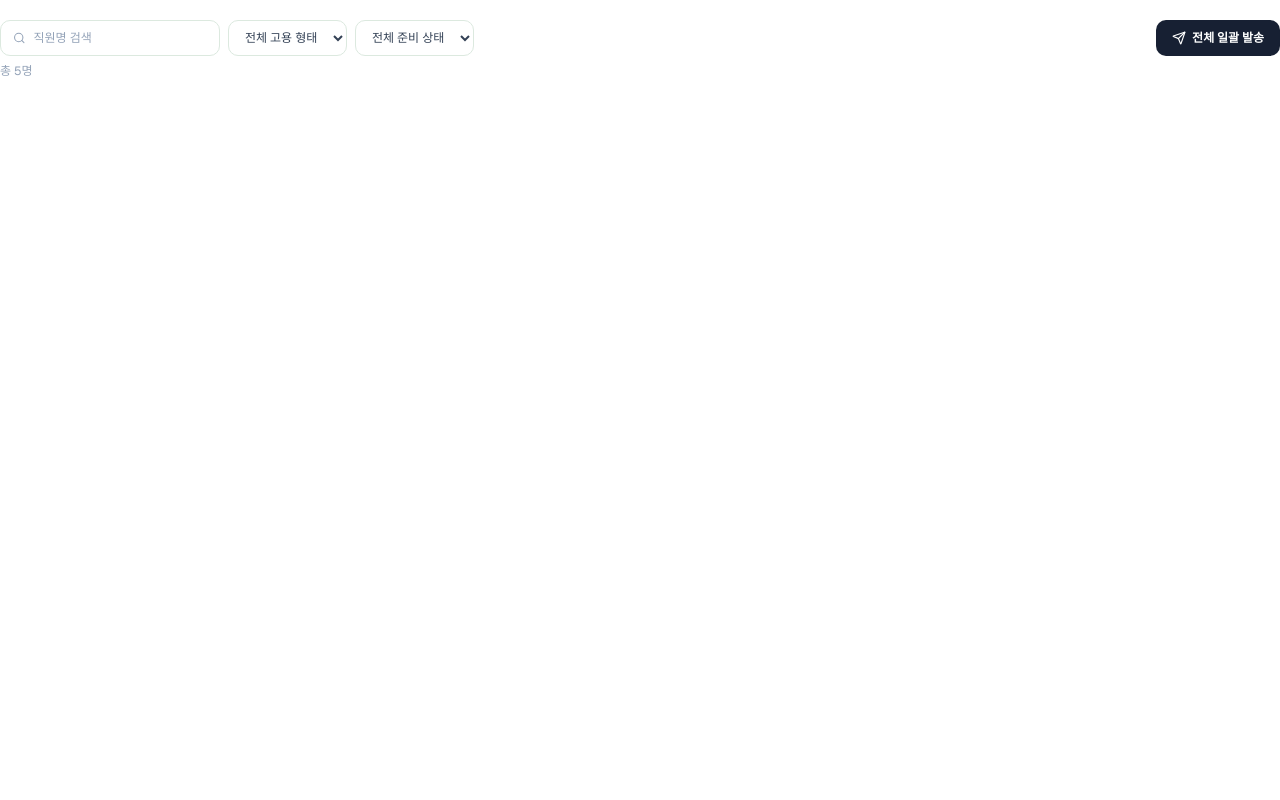
it: PayrollListFilter › 전체 일괄 발송 버튼을 클릭하면 확인 모달을 연다
Click the button "전체 일괄 발송". click: (1218, 38)
box: x1=1156 y1=20 x2=1279 y2=56
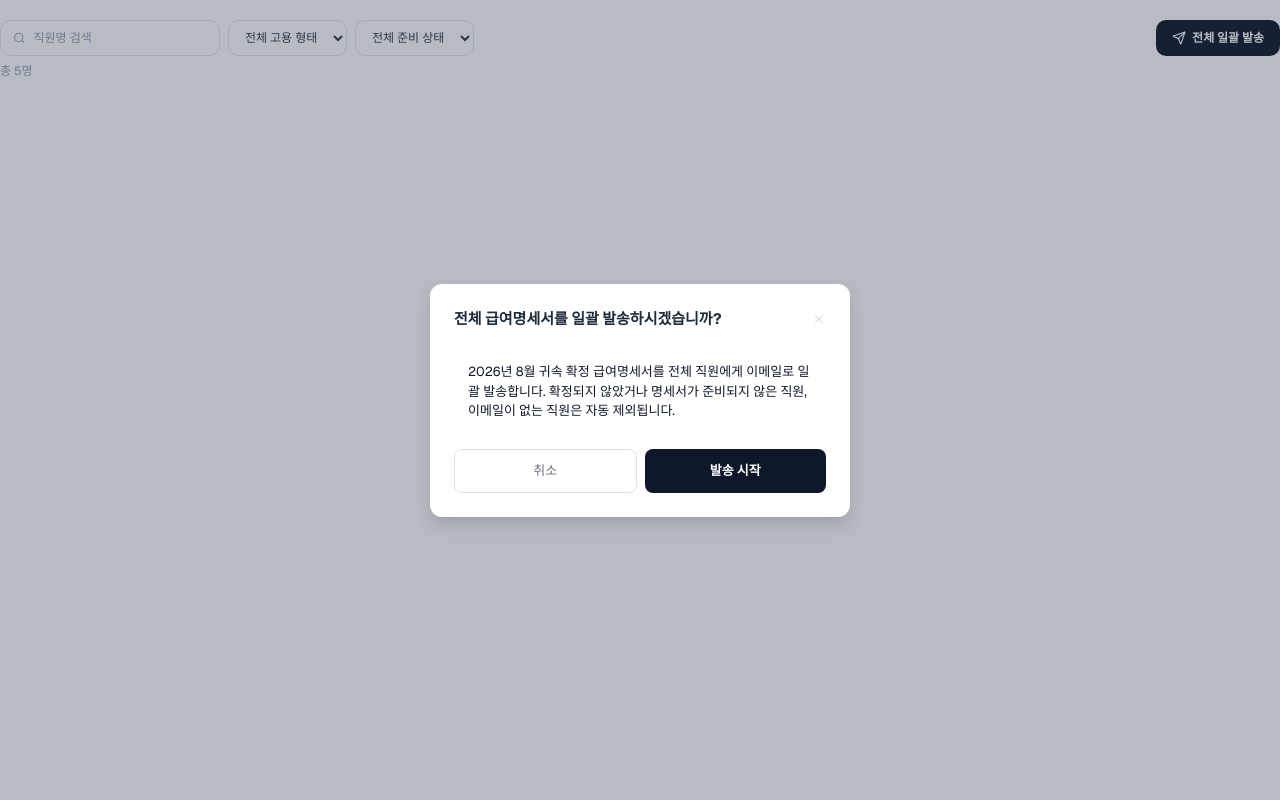
Now the heading "전체 급여명세서를 일괄 발송하시겠습니까?" is shown, box x1=454 y1=308 x2=722 y2=330
